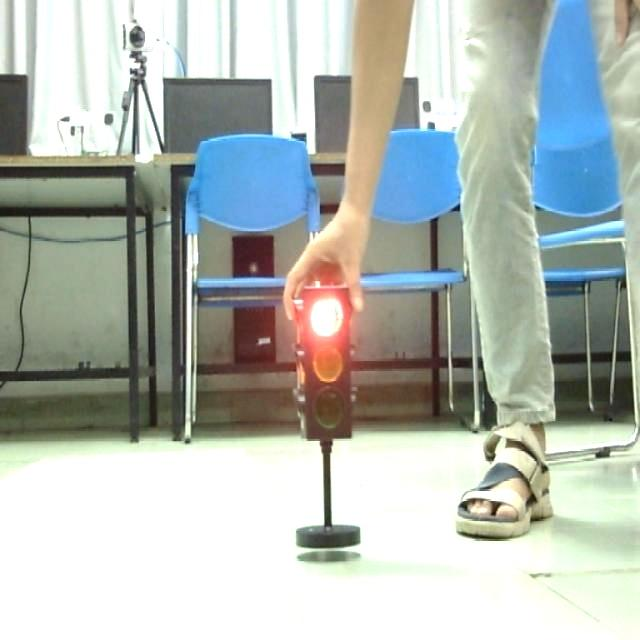Red: (290, 286, 366, 448)
